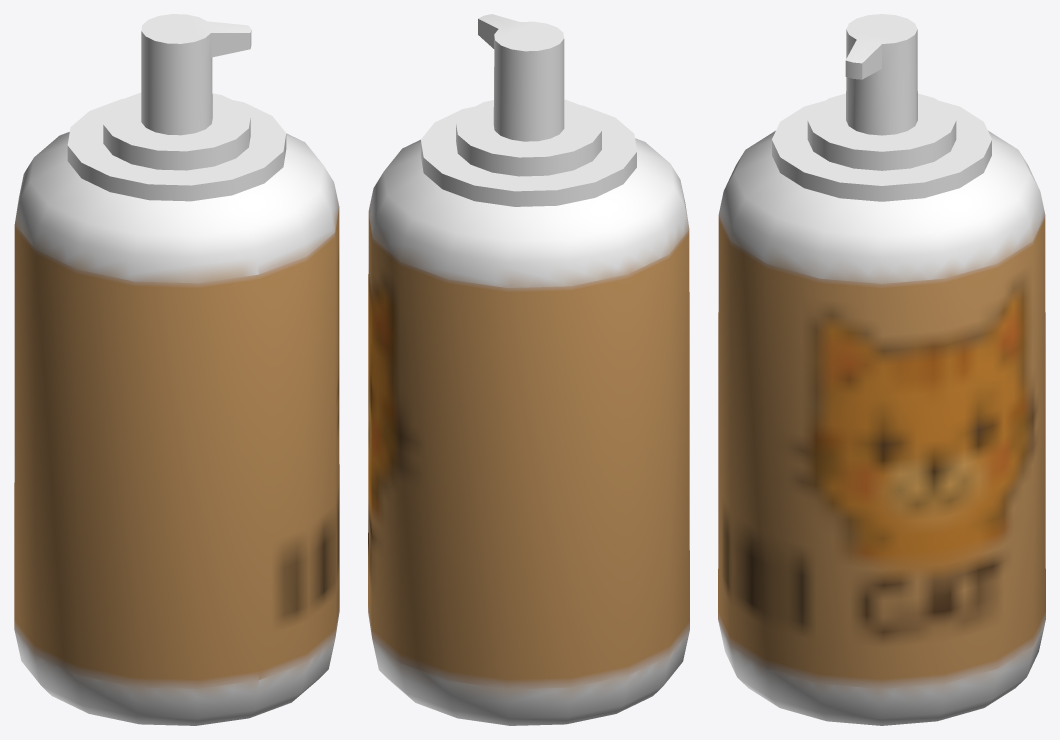
File: dog_shampoo2.fbx
3 views of the same model, side by side, from view 1: azimuth 30°, elevation 25°; view 2: azimuth 150°, elevation 25°; view 3: azimuth 270°, elevation 25° (orthographic).
Visible parts, largest first — view 1: dog_shampoo.001; view 2: dog_shampoo.001; view 3: dog_shampoo.001.
Part boxes in pixels (<box>): dog_shampoo.001: <box>14,14,339,725</box>; dog_shampoo.001: <box>368,14,689,725</box>; dog_shampoo.001: <box>718,14,1045,725</box>.
Size of the model in its own units: 13.04 by 27.9 by 13.04.
Materials: 1 (1 with a texture image).
